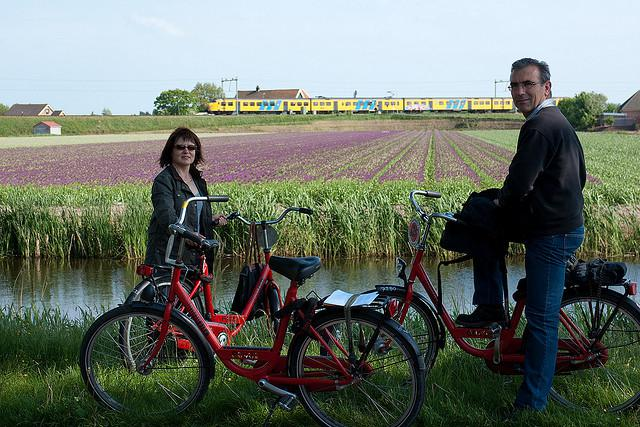Train: (209, 99, 514, 116)
